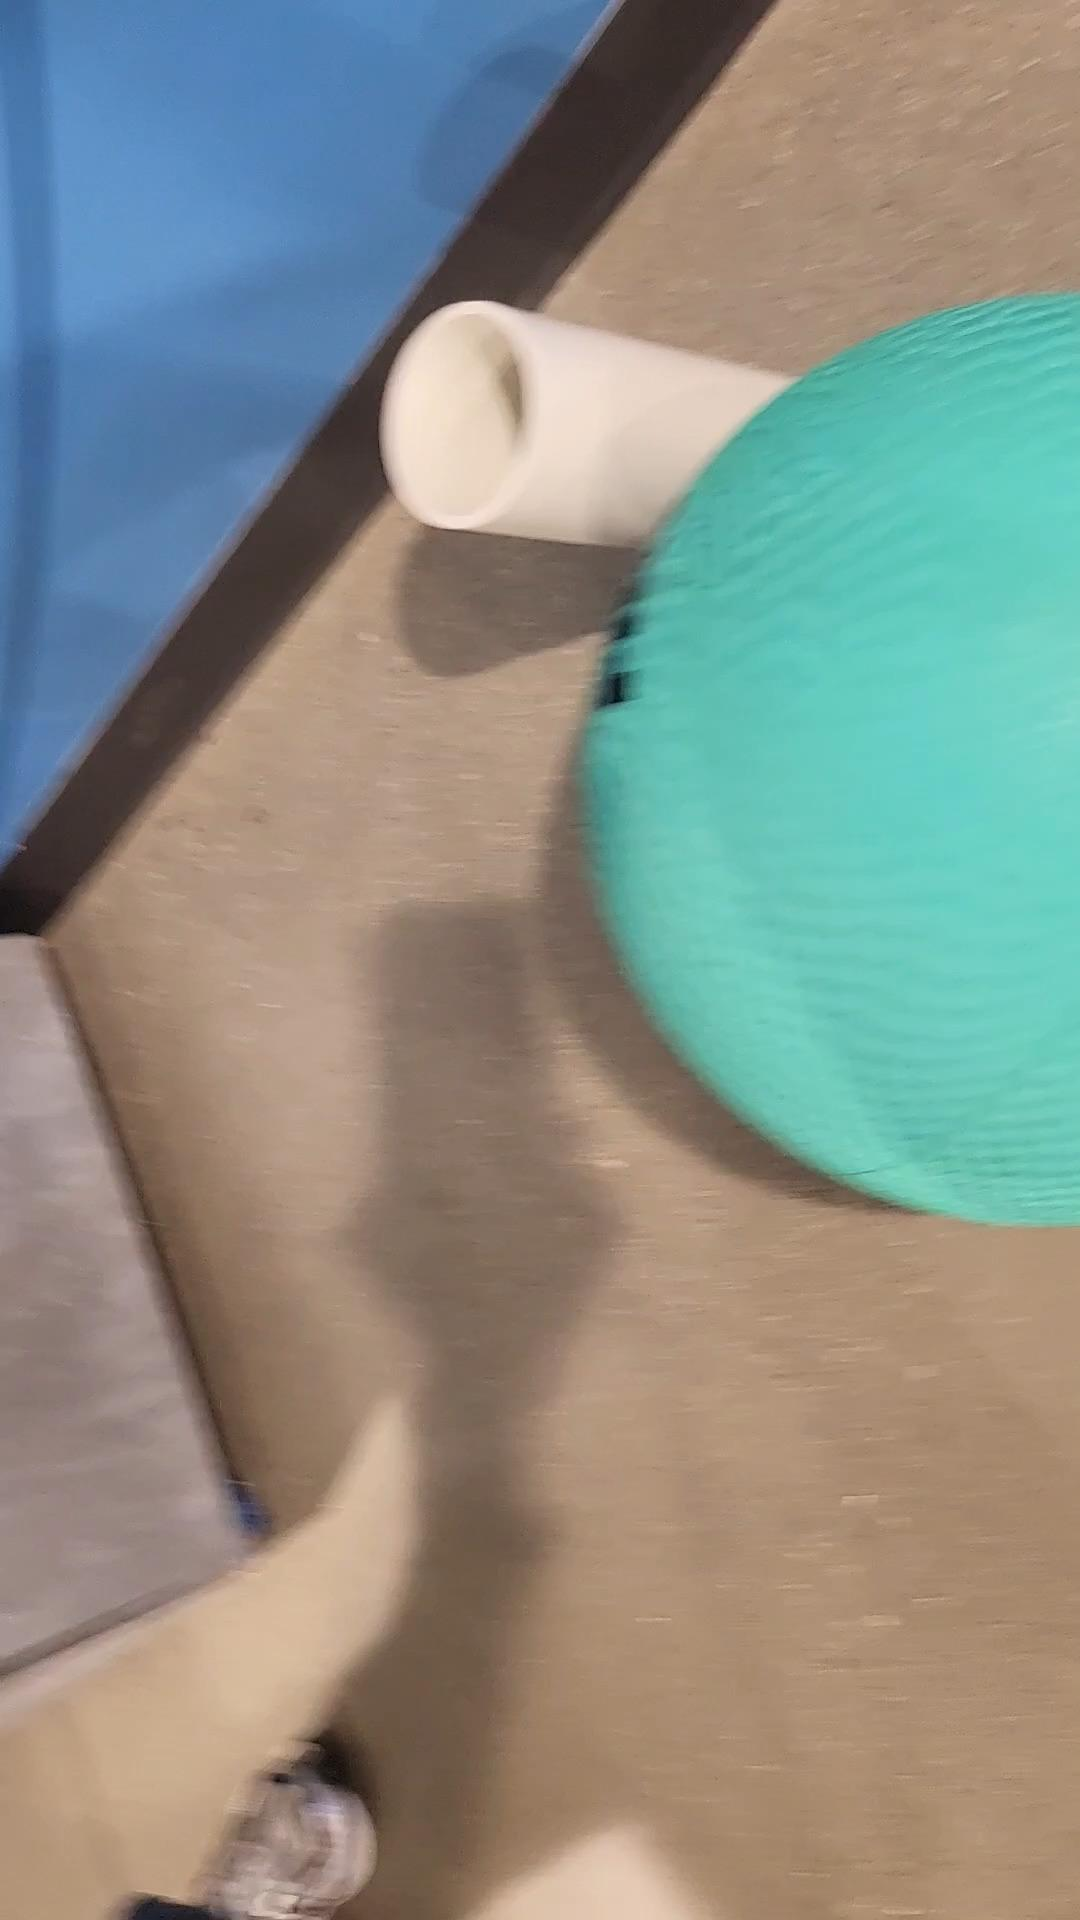algae: (593, 264, 1080, 1230)
coral: (377, 297, 844, 554)
